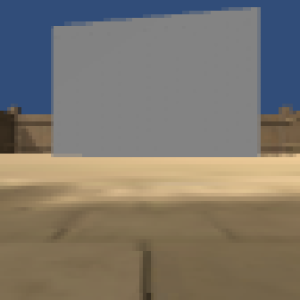wall: (45, 9, 268, 159)
